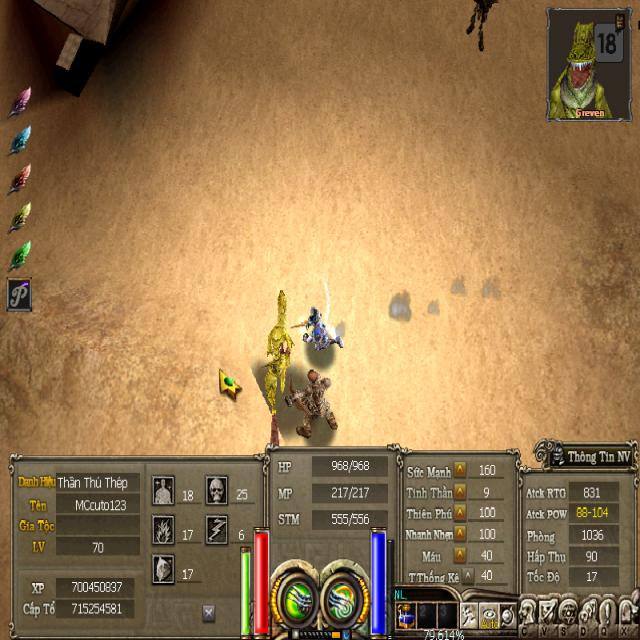monster: (244, 287, 290, 440), (294, 374, 342, 438)
